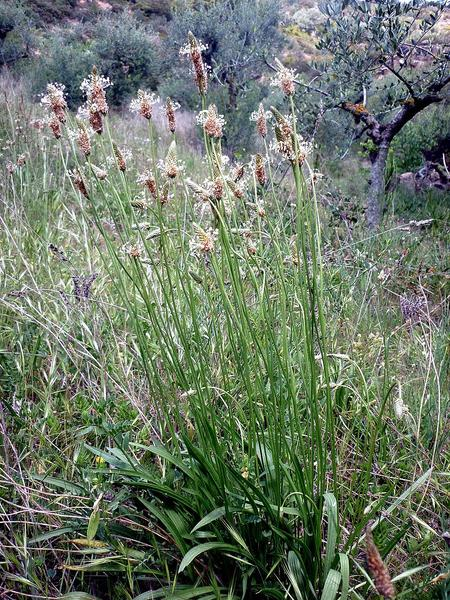buckhorn plantain: (30, 30, 388, 581)
